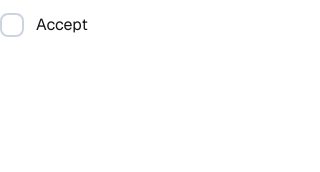
Checkbox › checks by the label
Click the text "Accept" at (62, 25), box [36,13,88,37]
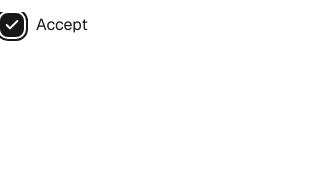
Now the checkbox is checked, box [0,13,24,37]
